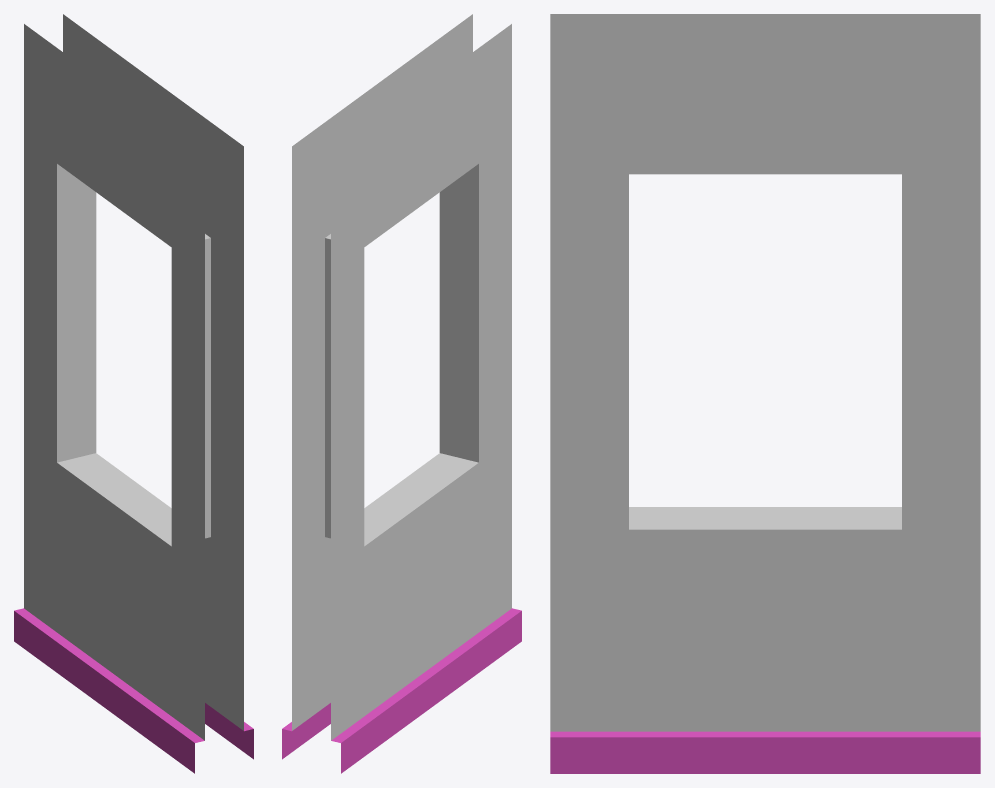
File: Modulo_Pared_Ventana.fbx
3 views of the same model, side by side, from view 1: azimuth 30°, elevation 25°; view 2: azimuth 150°, elevation 25°; view 3: azimuth 270°, elevation 25° (orthographic). The views are drawn at different scales.
Parts seen in each view (by area): view 1: Modulo_Ventana; view 2: Modulo_Ventana; view 3: Modulo_Ventana.
Part boxes in pixels (x1,y1,x2,y2): Modulo_Ventana: (14,14,253,773); Modulo_Ventana: (282,14,521,773); Modulo_Ventana: (550,14,980,773).
Bounding box in the file's own units: 30 × 300 × 160.
